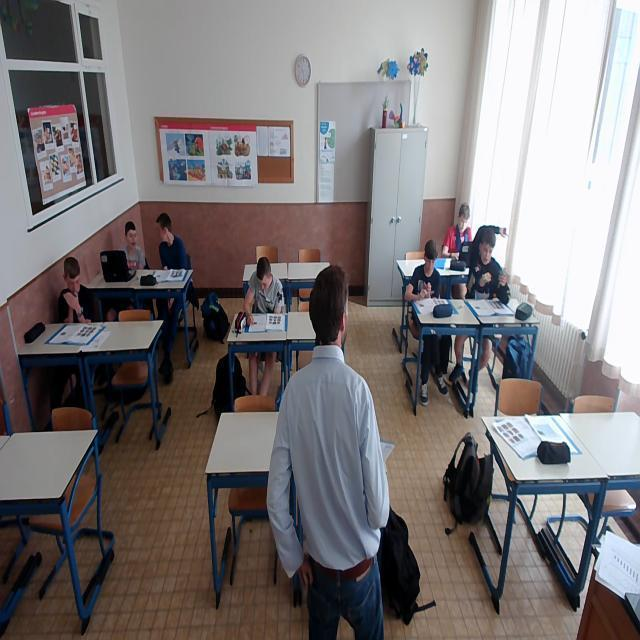Looking away: (62, 258, 82, 294), (154, 215, 173, 242), (457, 206, 470, 232), (424, 254, 436, 274)
Looking forward: (125, 222, 138, 250)
Raising hand: (468, 222, 518, 304)
Reading-writing: (242, 260, 292, 333)
